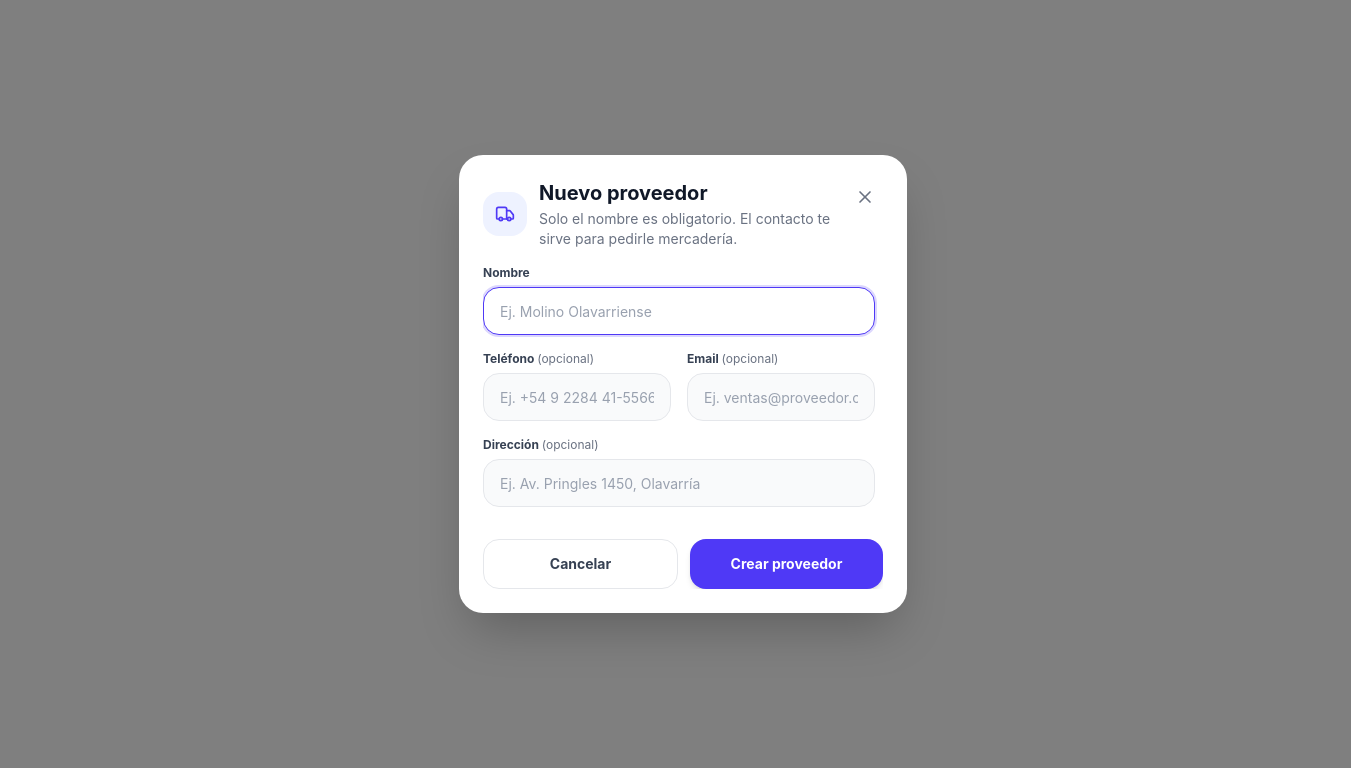
Test case: SupplierFormDialog › muestra el nombre repetido (409) en el propio campo
Type "Molino Olavarriense" into the field labelled "Nombre" at (679, 311), box [483, 287, 875, 335]
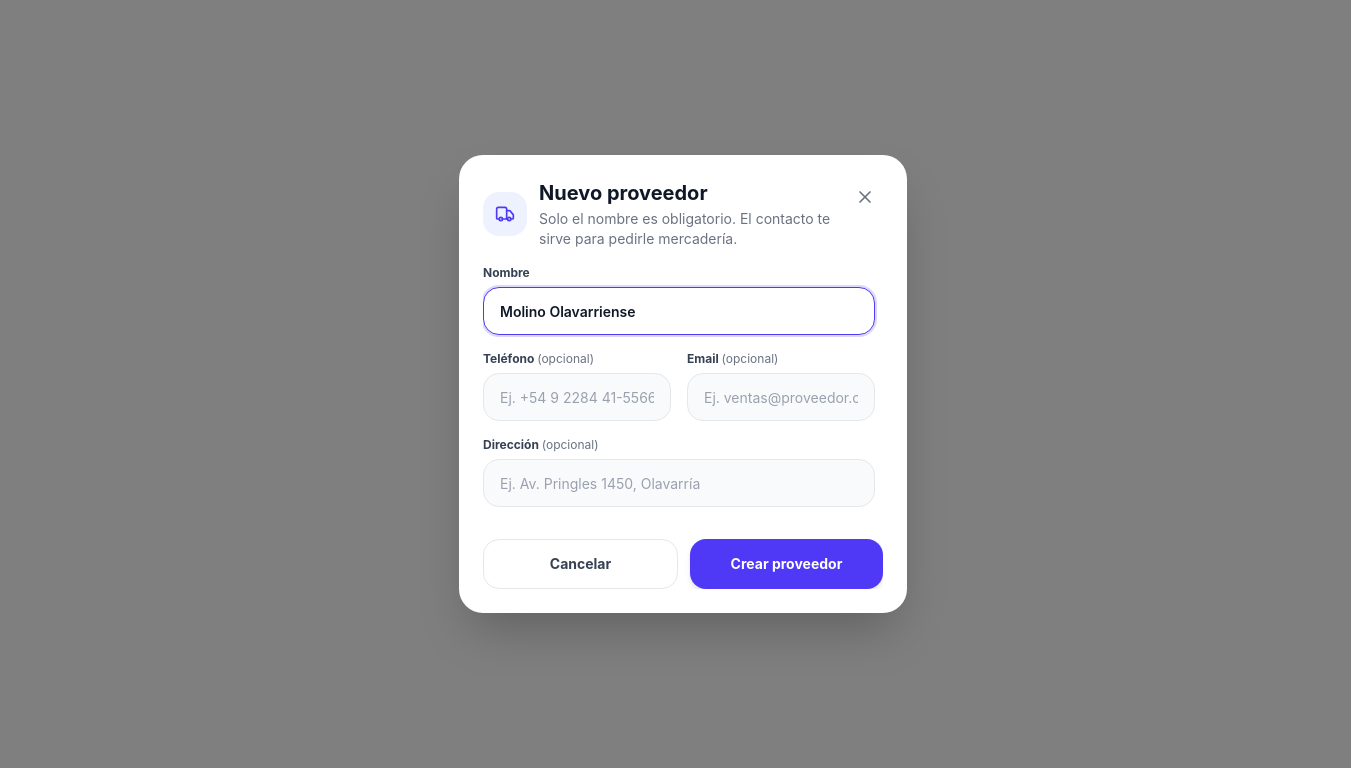
Click the button "Crear proveedor" at (786, 564), box [690, 539, 883, 589]
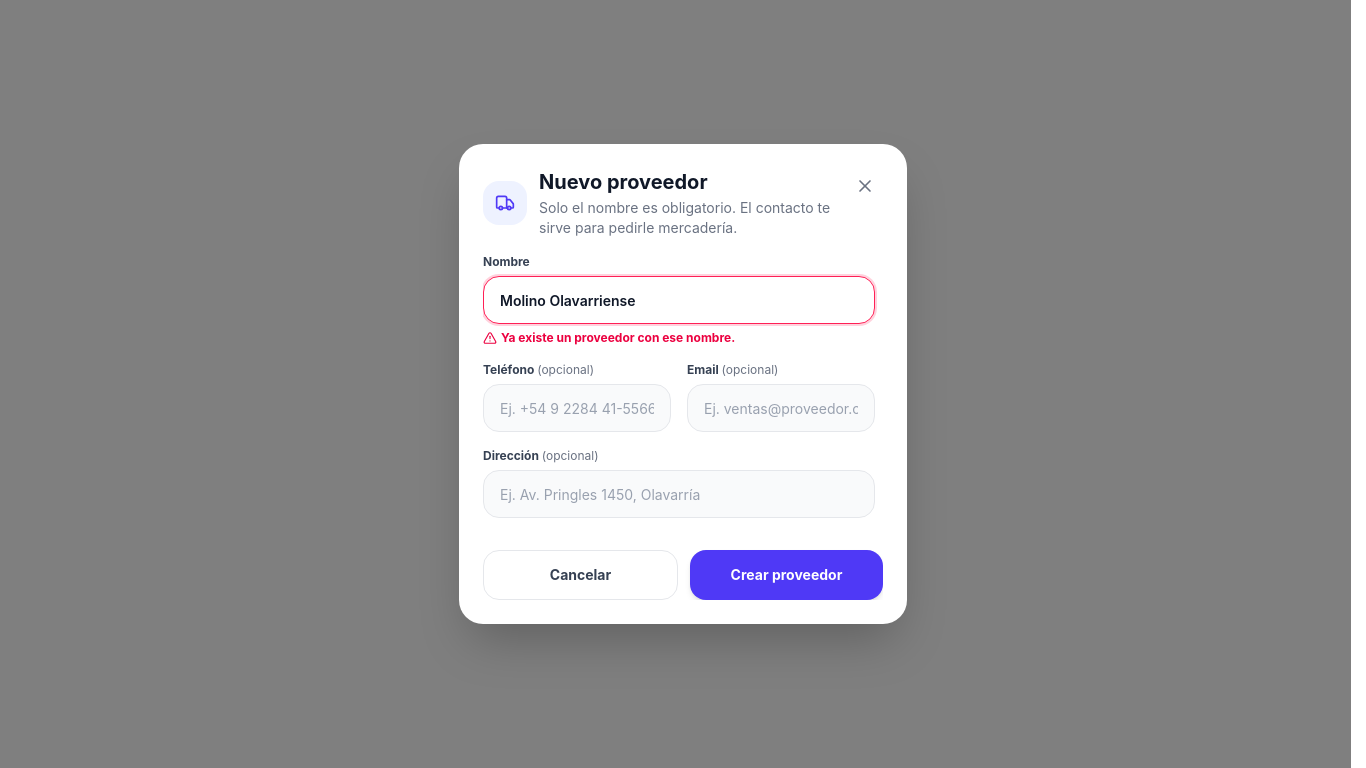
expect the text "Ya existe un proveedor con ese nombre." is shown: met, box [483, 330, 735, 345]
